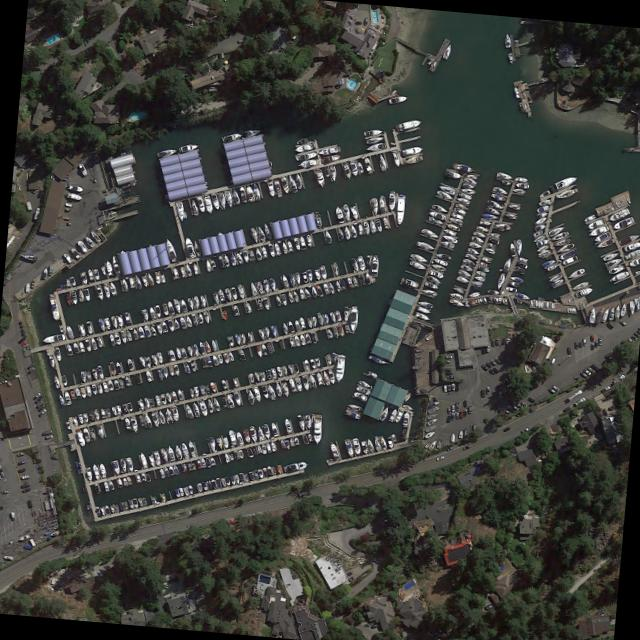large-vehicle: (566, 387, 581, 399), (611, 372, 624, 383), (572, 395, 585, 405), (33, 206, 39, 219)
ship: (548, 173, 577, 192), (393, 116, 421, 130), (606, 206, 629, 222), (610, 214, 634, 229), (394, 192, 405, 224), (586, 223, 609, 238), (282, 459, 308, 472), (47, 292, 59, 319), (333, 353, 344, 382), (163, 236, 176, 260), (617, 230, 639, 244), (607, 269, 628, 283), (183, 234, 195, 258), (400, 143, 422, 156), (367, 352, 389, 365), (312, 413, 321, 444), (326, 439, 339, 460), (593, 236, 614, 249), (554, 186, 575, 199), (450, 161, 474, 172), (40, 332, 64, 343), (419, 226, 439, 239), (585, 216, 605, 229), (549, 228, 569, 241), (317, 144, 340, 155), (622, 246, 640, 260), (313, 166, 325, 187), (109, 253, 121, 274), (592, 229, 611, 242), (296, 157, 318, 168), (155, 146, 177, 157), (408, 251, 428, 263), (407, 258, 427, 270), (435, 182, 455, 194), (554, 241, 574, 253), (557, 247, 577, 259), (622, 238, 640, 251), (320, 152, 341, 163), (177, 141, 198, 152), (174, 199, 185, 220), (342, 407, 361, 419), (565, 266, 584, 278), (603, 255, 622, 267), (414, 239, 434, 250), (399, 276, 419, 287), (294, 141, 314, 152), (202, 192, 213, 212), (429, 202, 447, 214), (434, 188, 452, 200), (606, 262, 624, 274), (574, 285, 592, 297), (601, 249, 619, 261), (546, 224, 564, 236), (220, 131, 241, 141), (342, 437, 353, 456), (494, 270, 505, 289), (286, 173, 297, 192), (271, 176, 282, 195), (348, 307, 357, 330), (441, 232, 458, 244), (500, 255, 512, 272), (484, 197, 501, 209), (365, 141, 385, 151), (350, 436, 361, 454), (552, 236, 570, 247), (559, 253, 577, 264), (265, 381, 276, 399), (261, 221, 272, 239), (333, 204, 343, 223), (297, 150, 316, 160), (244, 182, 254, 201), (441, 42, 452, 59), (413, 310, 430, 321), (294, 413, 305, 430), (571, 279, 588, 290), (490, 184, 507, 195), (197, 399, 208, 416), (370, 253, 378, 276), (427, 209, 445, 219), (390, 148, 400, 166), (404, 153, 422, 163), (594, 304, 604, 322), (247, 423, 257, 441), (186, 438, 196, 456), (362, 127, 382, 136), (209, 191, 219, 209), (222, 188, 232, 206), (230, 186, 240, 204), (191, 238, 201, 256), (425, 273, 441, 284), (351, 389, 367, 400), (387, 94, 406, 103), (364, 134, 383, 143), (348, 157, 357, 176), (426, 214, 443, 224), (429, 261, 446, 271), (416, 298, 433, 308), (447, 297, 464, 307), (353, 384, 370, 394), (306, 371, 316, 388), (494, 170, 511, 180), (312, 210, 322, 227), (226, 427, 236, 444), (183, 401, 193, 418), (362, 155, 372, 172), (248, 225, 258, 242), (255, 224, 265, 241), (387, 189, 395, 210), (75, 237, 87, 251), (348, 256, 359, 271), (488, 190, 503, 201), (433, 251, 451, 260), (377, 152, 386, 170), (341, 202, 350, 220), (179, 440, 188, 458), (279, 174, 288, 192), (237, 184, 246, 202), (250, 181, 259, 199), (189, 197, 198, 215), (446, 215, 462, 225), (444, 221, 460, 231), (431, 256, 447, 266), (455, 267, 471, 277), (427, 268, 443, 278), (546, 272, 562, 282), (513, 290, 529, 300), (483, 205, 499, 215), (149, 410, 159, 426), (224, 392, 234, 408), (231, 389, 241, 405), (68, 245, 80, 258), (83, 233, 94, 247), (76, 161, 87, 175), (356, 253, 365, 270), (300, 373, 309, 390), (321, 368, 330, 385), (282, 416, 291, 433), (345, 402, 362, 411), (279, 379, 288, 396), (600, 305, 609, 322), (129, 414, 138, 431), (65, 191, 82, 200), (75, 429, 84, 446), (171, 296, 180, 313), (241, 426, 250, 443), (245, 387, 254, 404), (190, 399, 199, 416), (341, 160, 350, 177), (216, 190, 225, 207), (266, 179, 275, 196), (243, 127, 260, 136), (458, 262, 473, 272), (378, 405, 388, 420), (387, 406, 397, 421), (348, 204, 358, 219), (549, 276, 564, 286), (461, 175, 476, 185), (158, 446, 168, 461), (421, 287, 437, 296), (415, 304, 431, 313), (361, 218, 370, 234), (293, 375, 302, 391), (286, 376, 295, 392), (535, 247, 551, 256), (143, 410, 151, 428), (156, 407, 165, 423), (138, 451, 147, 467), (90, 462, 99, 478), (97, 461, 106, 477), (80, 425, 89, 441), (234, 429, 243, 445), (261, 422, 270, 438), (252, 384, 261, 400), (211, 394, 220, 410), (294, 135, 310, 144), (195, 195, 204, 211), (357, 378, 371, 388), (393, 408, 403, 422), (581, 212, 595, 222), (465, 245, 479, 255), (233, 249, 243, 263), (235, 283, 245, 297), (443, 169, 460, 177), (377, 195, 385, 212), (369, 196, 377, 213), (326, 366, 334, 383), (95, 421, 103, 438), (95, 283, 103, 300), (293, 171, 301, 188), (422, 280, 437, 289), (447, 290, 462, 299), (540, 257, 555, 266), (453, 201, 468, 210), (534, 242, 549, 251), (165, 299, 174, 314), (173, 443, 182, 458), (259, 383, 268, 398), (169, 404, 178, 419), (266, 241, 275, 256), (210, 289, 219, 304), (89, 230, 100, 242), (242, 299, 252, 312), (315, 369, 323, 385), (458, 186, 474, 194), (66, 183, 82, 191), (118, 456, 126, 472), (125, 455, 133, 471), (62, 388, 70, 404), (255, 424, 263, 440), (205, 396, 213, 412), (328, 164, 336, 180), (104, 259, 112, 275), (463, 251, 477, 260), (461, 256, 475, 265), (454, 274, 468, 283), (450, 284, 464, 293), (455, 195, 469, 204), (469, 234, 483, 243), (531, 233, 545, 242), (19, 252, 37, 259), (96, 316, 105, 330), (125, 356, 134, 370), (178, 297, 187, 311), (46, 353, 55, 367), (64, 324, 73, 338), (107, 280, 116, 294), (132, 274, 141, 288), (267, 276, 276, 290), (223, 286, 232, 300), (61, 251, 72, 262), (425, 415, 437, 425), (427, 437, 437, 449), (378, 434, 386, 449), (365, 437, 373, 452), (323, 228, 331, 243), (348, 222, 356, 237), (287, 271, 295, 286), (269, 421, 277, 436), (303, 413, 311, 428), (456, 191, 471, 199), (152, 449, 160, 464), (147, 304, 155, 319), (53, 345, 61, 360), (69, 289, 77, 304), (111, 458, 119, 473), (101, 281, 109, 296), (166, 445, 174, 460), (253, 245, 261, 260), (248, 280, 256, 295), (588, 305, 595, 322), (480, 212, 497, 219), (164, 406, 171, 423), (326, 280, 335, 293), (335, 225, 344, 238), (535, 203, 548, 212), (537, 196, 550, 205), (533, 215, 546, 224), (452, 205, 465, 214), (534, 237, 547, 246), (146, 453, 155, 466), (149, 352, 158, 365), (154, 350, 163, 363), (232, 331, 241, 344), (449, 211, 463, 219), (442, 227, 456, 235), (439, 239, 453, 247), (401, 410, 408, 426), (359, 439, 367, 453), (318, 264, 326, 278), (367, 218, 375, 232), (280, 273, 288, 287), (273, 382, 281, 396), (493, 222, 509, 229), (467, 240, 481, 248), (471, 229, 485, 237), (507, 241, 515, 255), (514, 238, 521, 254), (122, 415, 130, 429), (136, 412, 144, 426), (109, 314, 117, 328), (112, 330, 120, 344), (95, 364, 103, 378), (107, 360, 115, 374), (83, 337, 91, 351), (73, 459, 81, 473), (52, 373, 60, 387), (214, 434, 222, 448), (221, 252, 229, 266), (145, 271, 153, 285), (183, 262, 191, 276), (197, 340, 205, 354), (254, 343, 262, 357), (272, 240, 280, 254), (191, 294, 199, 308), (426, 398, 438, 407), (426, 404, 438, 413), (425, 410, 437, 419), (423, 423, 435, 432), (537, 188, 549, 197), (143, 369, 152, 381), (171, 363, 180, 375), (256, 327, 265, 339), (331, 260, 338, 275), (607, 304, 614, 319), (298, 234, 305, 249), (503, 32, 510, 47), (84, 465, 91, 480), (207, 435, 214, 450), (260, 243, 267, 258), (380, 215, 388, 228), (372, 437, 380, 450), (286, 319, 294, 332), (297, 315, 305, 328), (314, 283, 322, 296), (336, 323, 344, 336), (632, 296, 640, 309), (530, 228, 543, 236), (474, 224, 487, 232), (88, 427, 96, 440), (158, 391, 166, 404), (85, 266, 93, 279), (124, 327, 132, 340), (130, 326, 138, 339), (142, 323, 150, 336), (166, 317, 174, 330), (160, 301, 168, 314), (113, 360, 121, 373), (167, 347, 175, 360), (79, 270, 87, 283), (77, 322, 85, 335), (82, 287, 90, 300), (56, 392, 64, 405), (120, 277, 128, 290), (171, 265, 179, 278), (202, 339, 210, 352), (237, 347, 245, 360), (189, 312, 197, 325), (216, 288, 224, 301), (255, 279, 263, 292), (374, 217, 381, 231), (293, 270, 300, 284), (508, 275, 522, 282), (460, 181, 474, 188), (115, 312, 122, 326), (65, 341, 72, 355), (241, 248, 248, 262), (198, 293, 205, 307), (230, 285, 237, 299), (262, 295, 269, 309), (261, 277, 268, 291), (402, 390, 410, 402), (401, 402, 413, 410), (302, 286, 310, 298), (328, 310, 336, 322), (342, 304, 348, 320), (546, 262, 558, 270), (476, 264, 488, 272), (512, 264, 524, 272), (535, 210, 547, 218), (515, 260, 527, 268), (488, 230, 500, 238), (533, 222, 545, 230), (142, 395, 150, 407), (164, 390, 172, 402), (137, 354, 145, 366), (17, 532, 29, 540), (185, 344, 193, 356), (209, 338, 217, 350), (245, 330, 253, 342), (268, 324, 276, 336), (259, 342, 267, 354), (201, 310, 209, 322), (231, 303, 239, 315), (309, 329, 316, 342), (305, 267, 312, 280), (291, 288, 298, 301), (304, 233, 311, 246), (506, 202, 519, 209), (511, 186, 524, 193), (107, 331, 114, 344), (119, 329, 126, 342), (137, 325, 144, 338), (178, 315, 185, 328), (141, 307, 148, 320), (179, 345, 186, 358), (156, 367, 163, 380), (71, 340, 78, 353), (77, 339, 84, 352), (89, 336, 96, 349), (79, 369, 86, 382), (292, 236, 299, 249), (221, 435, 228, 448), (285, 238, 292, 251), (216, 254, 223, 267), (228, 251, 235, 264), (247, 247, 254, 260), (182, 359, 189, 372), (184, 314, 191, 327), (186, 296, 193, 309), (343, 224, 349, 239), (628, 299, 634, 314), (613, 303, 619, 318), (423, 429, 434, 437), (366, 369, 377, 377), (292, 334, 300, 345), (303, 331, 311, 342), (315, 313, 323, 324), (483, 245, 494, 253), (166, 364, 174, 375), (197, 383, 205, 394), (208, 380, 216, 391), (204, 355, 212, 366), (399, 427, 406, 439), (385, 435, 392, 447), (345, 275, 352, 287), (280, 321, 287, 333), (300, 270, 307, 282), (279, 292, 286, 304), (331, 325, 338, 337), (280, 363, 287, 375), (619, 301, 625, 315), (507, 279, 519, 286), (479, 255, 491, 262), (464, 172, 476, 179), (513, 175, 527, 181), (92, 407, 99, 419), (153, 393, 160, 405), (95, 381, 102, 393), (122, 310, 129, 322), (155, 321, 162, 333), (160, 319, 167, 331), (172, 316, 179, 328), (154, 303, 160, 317), (103, 316, 110, 328), (100, 379, 107, 391), (90, 366, 97, 378), (174, 345, 181, 357), (85, 320, 92, 332), (64, 292, 71, 304), (73, 386, 80, 398), (78, 385, 85, 397), (84, 384, 91, 396), (322, 164, 329, 176), (356, 160, 363, 172), (214, 475, 221, 487), (127, 275, 134, 287), (140, 274, 147, 286), (210, 353, 217, 365), (196, 311, 203, 323), (255, 297, 262, 309), (485, 240, 495, 248), (488, 236, 498, 244), (286, 289, 292, 302), (477, 218, 490, 224), (280, 240, 286, 253), (265, 340, 271, 353), (204, 257, 210, 270), (153, 270, 159, 283), (499, 178, 510, 185), (321, 282, 328, 293), (338, 277, 345, 288), (287, 335, 294, 346), (298, 333, 305, 344), (313, 268, 320, 279), (301, 432, 308, 443), (334, 309, 341, 320), (286, 363, 293, 374), (302, 358, 309, 369), (308, 357, 315, 368), (324, 353, 331, 364), (474, 268, 485, 275), (87, 409, 94, 420), (68, 274, 75, 285), (137, 398, 144, 409), (157, 466, 164, 477), (162, 465, 169, 476), (106, 378, 113, 389), (512, 86, 519, 97), (106, 478, 113, 489), (76, 412, 83, 423), (170, 390, 177, 401), (203, 382, 210, 393), (219, 377, 226, 388), (252, 369, 259, 380), (264, 368, 271, 379), (222, 451, 229, 462), (209, 477, 216, 488), (228, 473, 235, 484), (251, 467, 258, 478), (175, 388, 182, 399), (191, 262, 198, 273), (215, 352, 222, 363), (221, 351, 228, 362), (273, 294, 280, 305), (424, 332, 433, 340), (351, 274, 357, 286), (293, 318, 299, 330), (356, 222, 362, 234), (298, 286, 304, 298), (305, 315, 311, 327), (283, 437, 289, 449), (275, 364, 281, 376), (467, 290, 479, 296), (472, 274, 484, 280), (486, 288, 498, 294), (504, 285, 516, 291), (503, 212, 515, 218), (41, 266, 47, 278), (47, 262, 53, 274), (92, 267, 98, 279), (161, 365, 167, 377), (506, 51, 512, 63), (246, 445, 252, 457), (179, 265, 185, 277), (239, 331, 245, 343), (263, 324, 269, 336), (227, 349, 233, 361), (192, 342, 198, 354), (274, 463, 281, 473), (265, 464, 272, 474), (325, 327, 332, 337), (313, 355, 320, 365), (514, 182, 528, 187), (517, 255, 527, 262), (125, 401, 132, 411), (149, 325, 156, 335), (117, 377, 124, 387), (140, 495, 147, 505), (77, 287, 82, 301), (84, 370, 91, 380), (124, 474, 131, 484), (171, 463, 178, 473), (208, 455, 215, 465), (231, 376, 238, 386), (200, 480, 207, 490), (237, 471, 244, 481), (99, 264, 106, 274), (435, 436, 441, 447), (310, 315, 316, 326), (269, 440, 275, 451), (322, 312, 328, 323), (98, 406, 104, 417), (110, 404, 116, 415), (90, 382, 96, 393), (112, 377, 118, 388), (123, 374, 129, 385), (144, 355, 150, 366), (48, 529, 59, 535), (131, 496, 137, 507), (517, 100, 523, 111), (93, 482, 99, 493), (102, 480, 108, 491), (121, 475, 127, 486), (68, 388, 74, 399), (60, 374, 66, 385), (192, 385, 198, 396), (248, 371, 254, 382), (220, 395, 226, 406), (205, 478, 211, 489), (277, 338, 283, 349), (189, 360, 195, 371), (334, 278, 339, 291), (364, 270, 369, 283), (310, 283, 315, 296), (120, 402, 127, 411), (98, 505, 105, 514), (270, 464, 276, 474), (261, 466, 267, 476), (278, 438, 284, 448), (270, 367, 276, 377), (292, 362, 298, 372), (148, 396, 154, 406), (134, 472, 140, 482), (139, 471, 145, 481), (96, 334, 101, 346), (134, 373, 140, 383), (94, 504, 100, 514), (2, 553, 12, 559), (103, 503, 109, 513), (117, 500, 123, 510), (127, 498, 133, 508), (136, 496, 142, 506), (42, 487, 52, 493), (71, 415, 77, 425), (81, 411, 87, 421), (199, 456, 205, 466), (204, 456, 210, 466), (187, 387, 193, 397), (259, 370, 265, 380), (232, 448, 238, 458), (256, 467, 262, 477), (255, 443, 261, 453), (219, 476, 225, 486), (224, 475, 230, 485), (233, 473, 239, 483), (247, 469, 253, 479), (227, 335, 233, 345), (525, 365, 532, 373), (265, 441, 270, 452), (470, 279, 481, 284), (260, 442, 265, 453), (324, 456, 333, 462), (390, 432, 396, 441), (292, 435, 298, 444), (306, 432, 312, 441), (478, 260, 487, 266), (144, 472, 150, 481), (108, 503, 114, 512), (112, 502, 118, 511), (122, 500, 128, 509), (116, 477, 122, 486), (227, 450, 233, 459), (237, 448, 243, 457), (173, 487, 179, 496), (182, 485, 188, 494), (242, 471, 248, 480), (209, 258, 215, 267), (159, 272, 165, 281), (288, 436, 293, 446), (343, 322, 348, 332), (330, 350, 335, 360), (449, 431, 454, 441), (104, 407, 109, 417), (115, 403, 120, 413), (30, 277, 35, 287), (150, 493, 155, 503), (24, 281, 29, 291), (167, 464, 172, 474), (186, 461, 191, 471), (187, 483, 192, 493), (221, 309, 226, 319), (613, 199, 619, 207), (57, 323, 63, 331), (64, 420, 70, 428), (190, 461, 196, 469), (159, 492, 165, 500), (535, 295, 544, 300), (457, 428, 462, 437), (64, 277, 69, 286), (195, 458, 200, 467), (178, 486, 183, 495), (200, 357, 205, 366), (365, 253, 369, 264), (423, 441, 430, 447), (549, 356, 555, 363), (524, 362, 530, 369), (64, 201, 72, 206), (181, 462, 186, 470), (197, 481, 201, 491), (413, 348, 422, 352), (549, 301, 554, 308), (633, 269, 640, 274), (544, 254, 551, 259), (426, 59, 432, 64), (390, 88, 396, 93), (370, 275, 375, 281), (515, 298, 521, 303), (293, 154, 298, 160), (544, 300, 548, 307), (522, 363, 526, 370), (528, 298, 532, 305), (182, 210, 186, 217), (373, 434, 378, 439), (227, 392, 232, 397), (350, 304, 356, 308), (464, 299, 467, 307), (551, 297, 557, 301), (573, 186, 577, 192), (625, 196, 629, 202), (539, 300, 542, 307), (389, 140, 394, 144), (536, 300, 539, 306), (534, 299, 537, 305), (567, 306, 571, 310), (595, 208, 599, 212), (570, 306, 573, 311), (610, 205, 613, 210), (606, 203, 609, 207), (497, 267, 501, 270), (572, 306, 574, 310)
small-vehicle: (589, 362, 599, 371), (581, 367, 591, 375), (297, 488, 308, 495), (16, 335, 25, 343), (586, 365, 594, 373), (33, 394, 41, 402), (36, 403, 44, 411), (37, 407, 45, 415), (600, 384, 609, 391), (19, 481, 29, 487), (20, 472, 30, 478), (526, 395, 534, 402), (604, 321, 612, 328), (617, 318, 625, 325), (578, 369, 586, 376), (488, 357, 496, 364), (510, 403, 518, 410), (519, 400, 527, 407), (32, 391, 40, 398), (434, 454, 443, 460), (546, 386, 555, 392), (461, 443, 470, 449), (42, 428, 51, 434), (16, 458, 25, 464), (626, 336, 633, 343), (480, 362, 487, 369), (35, 400, 42, 407), (27, 365, 34, 372), (562, 404, 570, 410), (550, 384, 558, 390), (629, 334, 637, 340), (603, 353, 611, 359), (492, 356, 500, 362), (25, 499, 31, 507), (9, 510, 14, 519), (600, 408, 606, 415), (632, 330, 639, 336), (572, 374, 579, 380), (484, 360, 491, 366), (502, 425, 509, 431), (520, 426, 527, 432), (487, 368, 494, 374), (491, 366, 498, 372), (344, 570, 351, 576), (346, 575, 353, 581), (565, 345, 570, 353), (499, 336, 504, 344), (21, 486, 29, 491), (49, 454, 57, 459), (362, 16, 367, 24), (504, 408, 510, 414), (20, 339, 26, 345), (27, 361, 33, 367), (445, 414, 450, 421), (445, 445, 452, 450), (484, 344, 489, 351), (504, 336, 509, 343), (18, 466, 25, 471), (44, 433, 51, 438), (454, 382, 458, 390), (573, 340, 577, 348), (588, 333, 592, 341), (597, 336, 601, 344), (462, 407, 466, 415), (479, 388, 483, 396), (236, 37, 244, 41), (370, 622, 378, 626), (515, 402, 521, 407), (444, 370, 451, 374), (442, 383, 446, 390), (446, 383, 450, 390), (450, 382, 454, 389), (450, 403, 454, 410), (577, 339, 581, 346), (581, 337, 585, 344), (589, 341, 593, 348), (471, 423, 475, 430), (462, 399, 466, 406), (497, 389, 501, 396), (0, 488, 7, 492), (15, 451, 22, 455), (450, 412, 454, 418), (494, 337, 497, 345), (454, 401, 457, 409), (485, 385, 488, 393), (444, 354, 451, 357), (443, 367, 450, 370), (446, 374, 453, 377), (446, 406, 449, 413), (593, 339, 596, 346), (454, 411, 457, 418), (459, 409, 462, 416), (467, 405, 470, 412), (0, 468, 3, 475), (354, 20, 361, 23), (490, 338, 492, 345)
